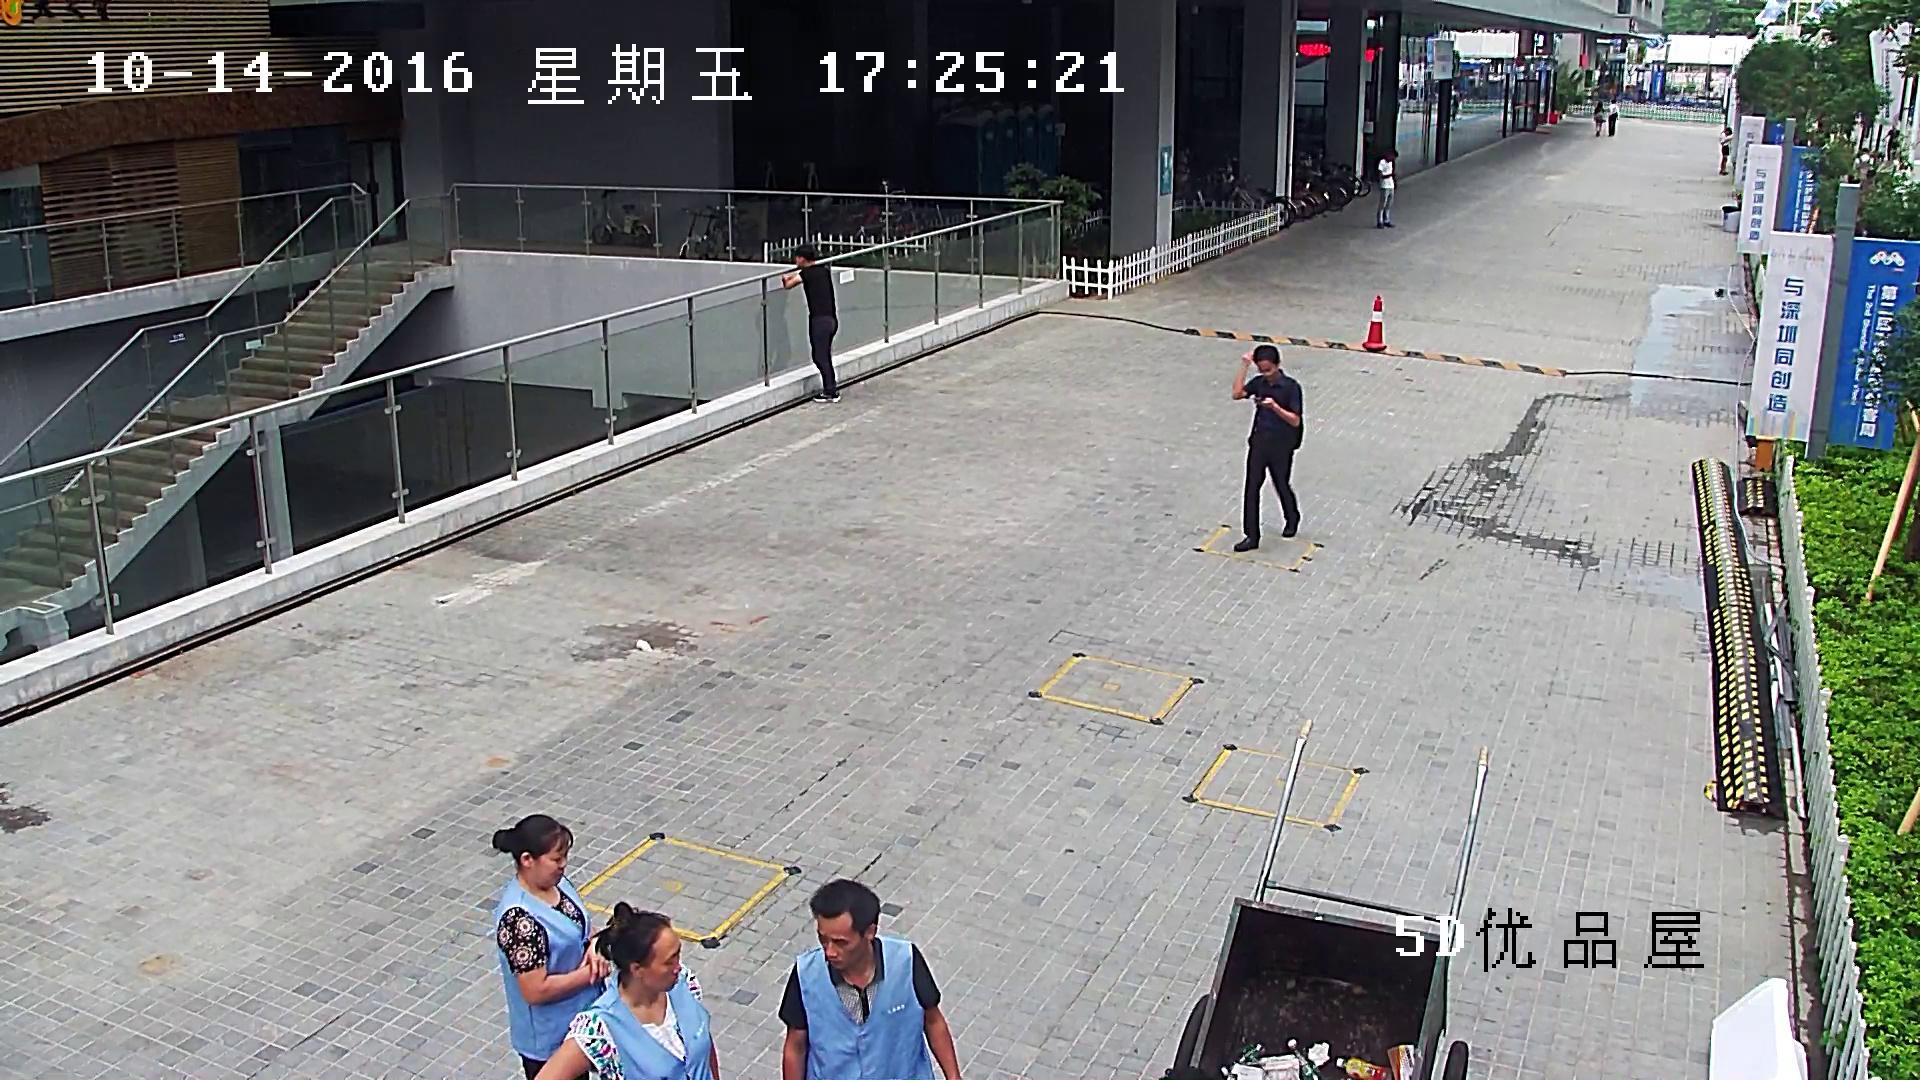person: (776, 880, 964, 1080), (532, 900, 722, 1080), (494, 815, 610, 1080), (1231, 344, 1303, 551), (782, 246, 841, 407), (1376, 150, 1398, 231), (1881, 122, 1901, 162), (1719, 127, 1732, 176), (1607, 98, 1620, 137), (1593, 100, 1605, 136)
